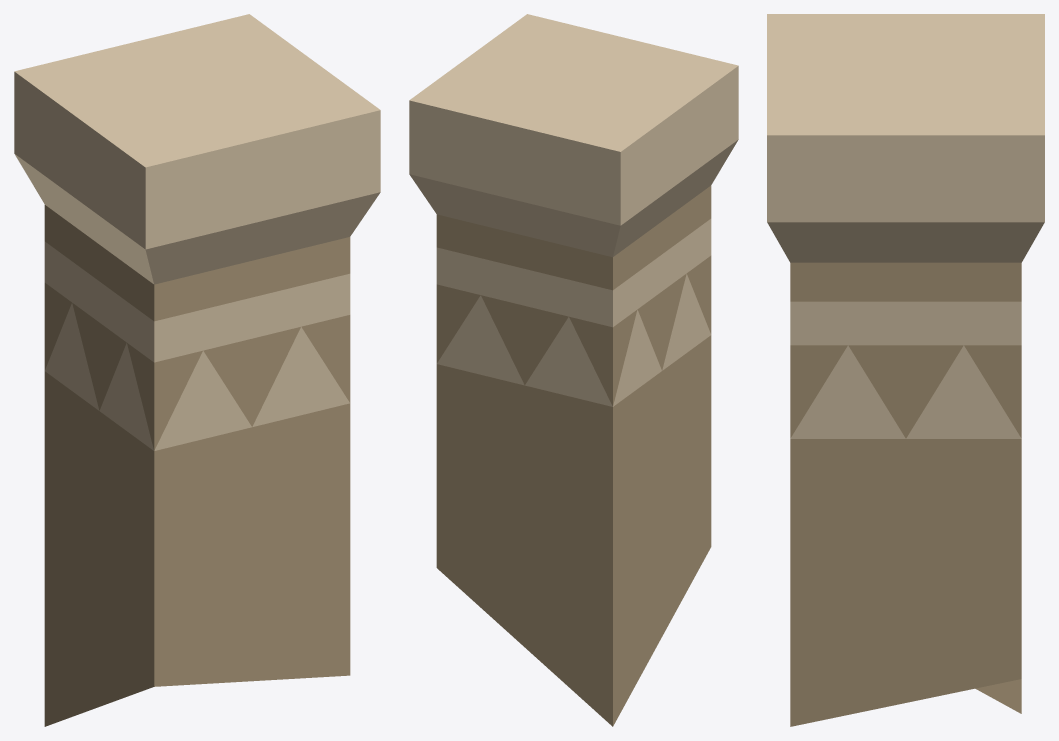
Rendered from LightSandStoneColumnMediumAztecBrokenTop1.fbx.
3 views of the same model, side by side, from view 1: azimuth 30°, elevation 25°; view 2: azimuth 150°, elevation 25°; view 3: azimuth 270°, elevation 25° (orthographic). The views are drawn at different scales.
Visible parts, largest first — view 1: LightSandStoneColumnMediumAztecBrokenTop1; view 2: LightSandStoneColumnMediumAztecBrokenTop1; view 3: LightSandStoneColumnMediumAztecBrokenTop1.
Boxes of the visible parts, x1,y1,x2,y2 form: LightSandStoneColumnMediumAztecBrokenTop1: [14, 14, 380, 726]; LightSandStoneColumnMediumAztecBrokenTop1: [409, 14, 738, 726]; LightSandStoneColumnMediumAztecBrokenTop1: [767, 14, 1044, 726].
Size of the model in its own units: 360 by 954 by 348.
2 materials, 2 textured.
